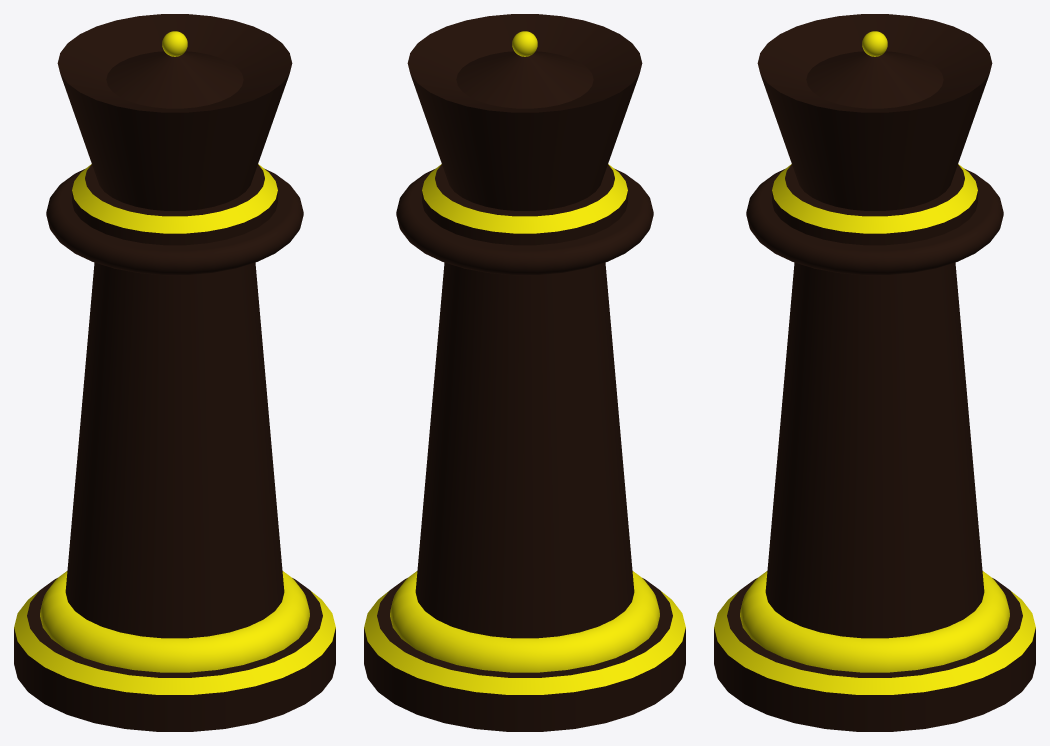
Rendered from Premium_B_Queen.gltf.
3 views of the same model, side by side, from view 1: azimuth 30°, elevation 25°; view 2: azimuth 150°, elevation 25°; view 3: azimuth 270°, elevation 25° (orthographic).
Visible parts, largest first — view 1: Queen Black; view 2: Queen Black; view 3: Queen Black.
Boxes of the visible parts, x1,y1,x2,y2 form: Queen Black: (14,14,335,731); Queen Black: (364,14,685,731); Queen Black: (714,14,1035,731).
Bounding box in the file's own units: 0.0284 × 0.0619 × 0.0286.
